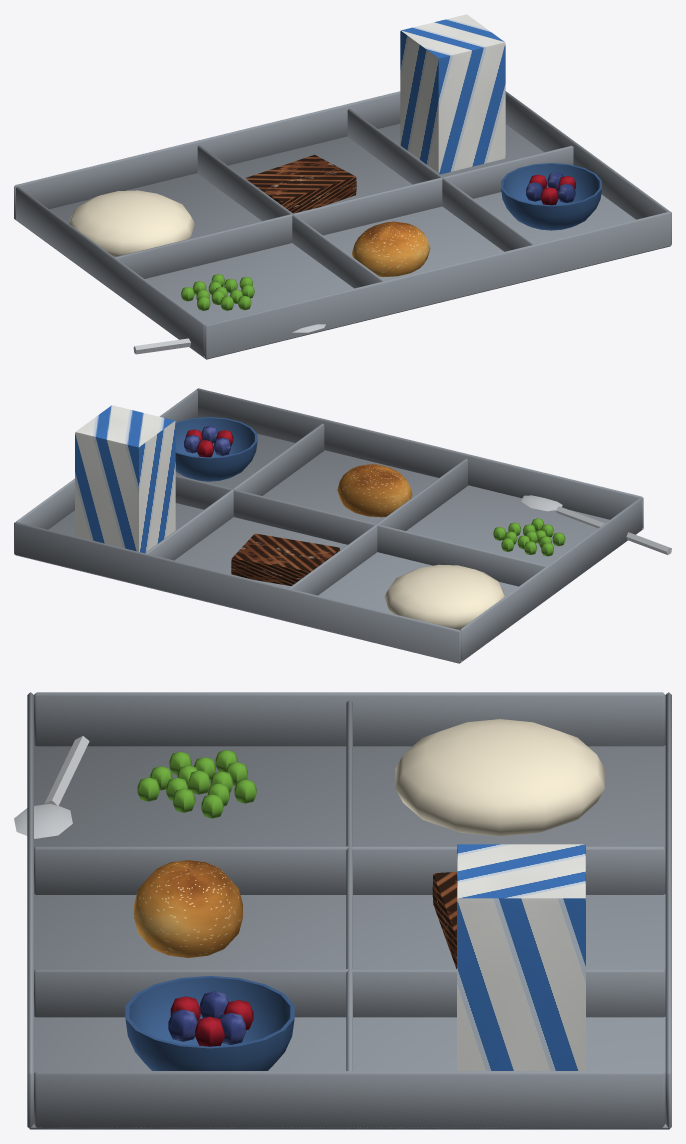
File: tray_meal_tray_steel.glb
3 views of the same model, one above another, from view 1: azimuth 30°, elevation 25°; view 2: azimuth 150°, elevation 25°; view 3: azimuth 270°, elevation 25° (orthographic). The views are drawn at different scales.
Parts seen in each view (by area): view 1: tray_meal_tray_steel; view 2: tray_meal_tray_steel; view 3: tray_meal_tray_steel.
Boxes of the visible parts, x1,y1,x2,y2 form: tray_meal_tray_steel: (14, 14, 671, 359); tray_meal_tray_steel: (14, 388, 671, 663); tray_meal_tray_steel: (14, 692, 671, 1129).
Bounding box in the file's own units: 0.4641 × 0.11 × 0.3062.
10 materials, 5 textured.
